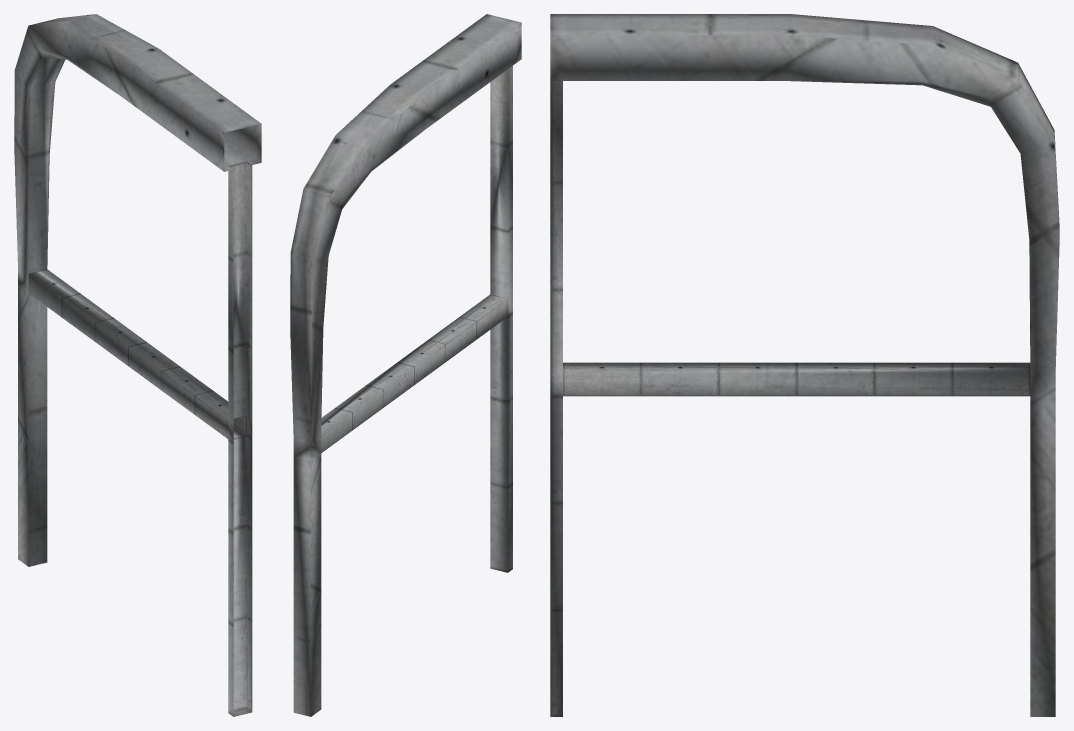
File: HandrailEnd.fbx
3 views of the same model, side by side, from view 1: azimuth 30°, elevation 25°; view 2: azimuth 150°, elevation 25°; view 3: azimuth 270°, elevation 25° (orthographic). The views are drawn at different scales.
Parts seen in each view (by area): view 1: Cube.004; view 2: Cube.004; view 3: Cube.004.
Boxes of the visible parts, x1,y1,x2,y2 form: Cube.004: (14, 14, 261, 716); Cube.004: (290, 14, 521, 716); Cube.004: (550, 14, 1059, 716).
Bounding box in the file's own units: 5 × 75 × 50.4.
